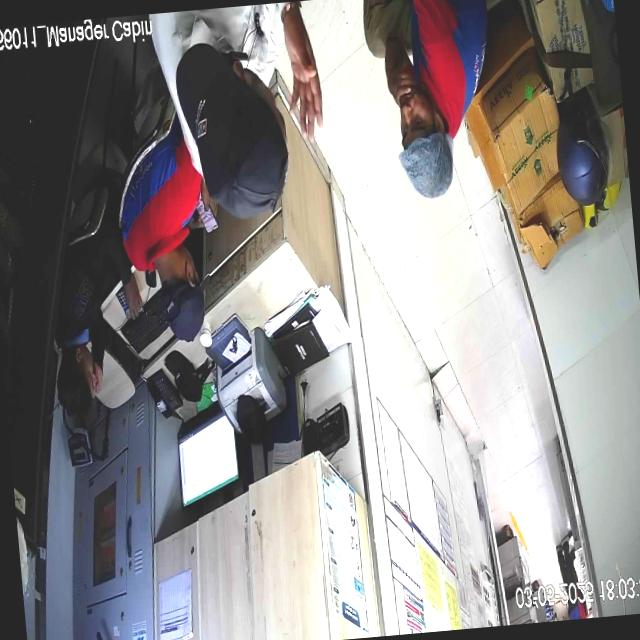helmet: (557, 108, 611, 203)
no_helmet: (173, 41, 290, 218), (398, 85, 453, 200)
